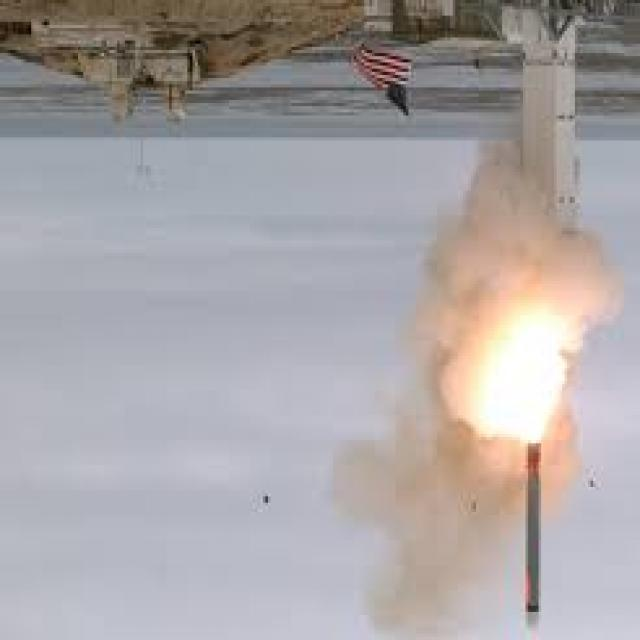Missile: (517, 433, 553, 636)
